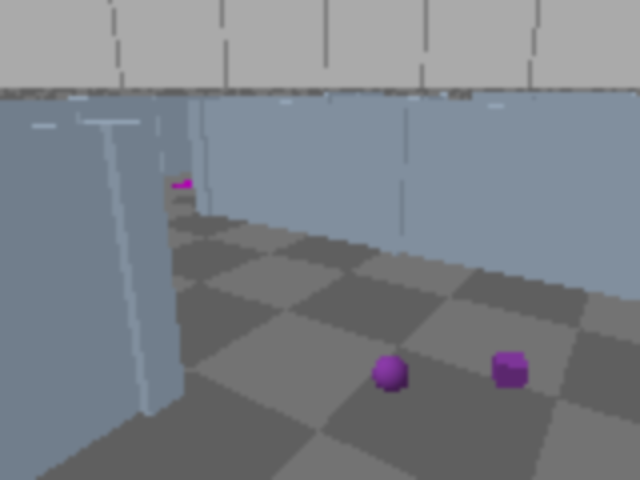puck: (366, 345, 418, 404), (492, 350, 529, 390)
